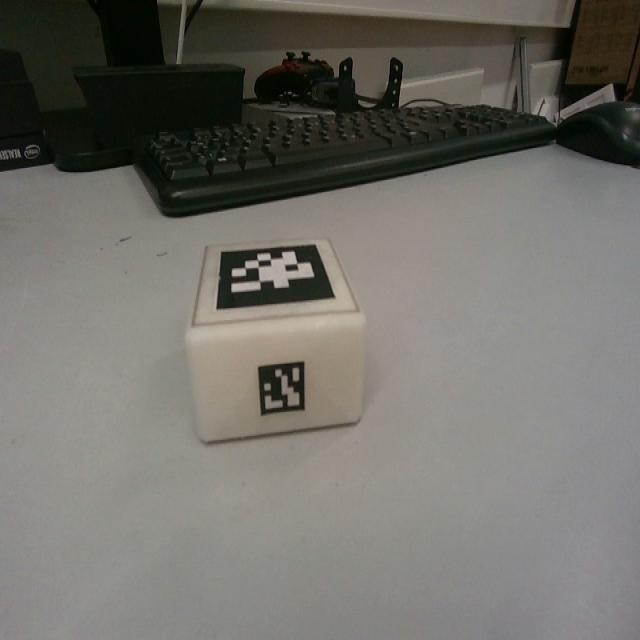Cube: (184, 236, 367, 443)
